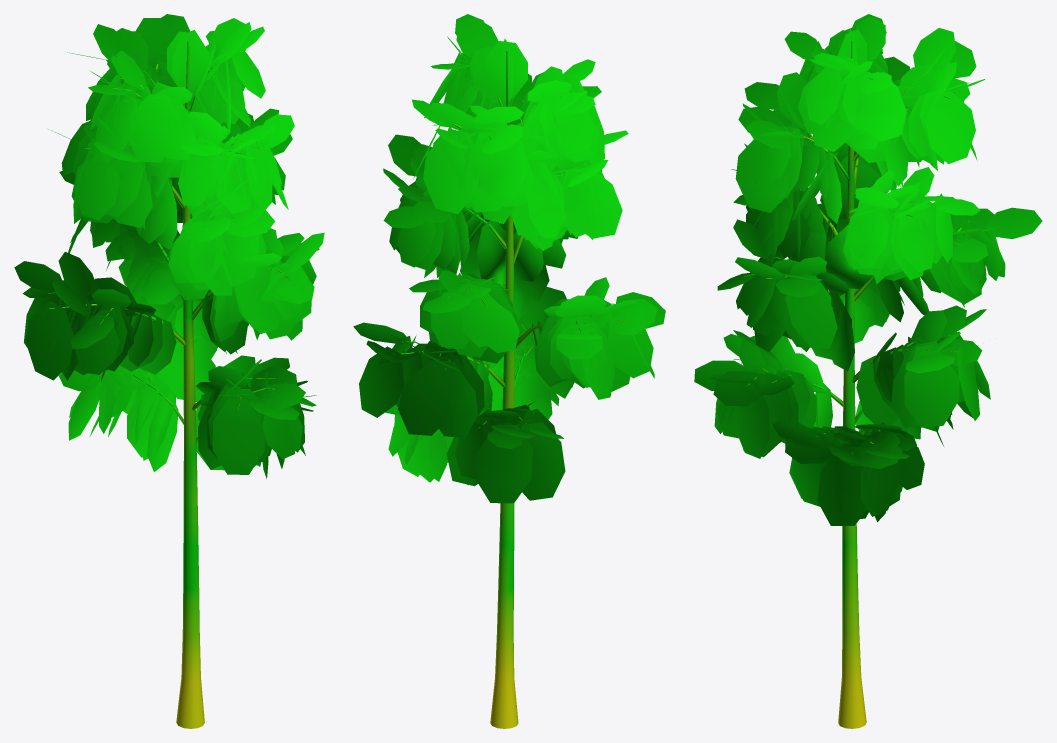
File: tree_birch_a.glb
The picture shows the model from 3 angles, left to right: view 1: azimuth 30°, elevation 25°; view 2: azimuth 150°, elevation 25°; view 3: azimuth 270°, elevation 25°; orthographic projection.
Visible parts, largest first — view 1: tree_birch_a.1, tree_birch_a.0; view 2: tree_birch_a.1, tree_birch_a.0; view 3: tree_birch_a.1, tree_birch_a.0.
Boxes of the visible parts, x1=… form: tree_birch_a.1: x1=14, y1=14, x2=324, y2=478; tree_birch_a.0: x1=48, y1=42, x2=291, y2=728; tree_birch_a.1: x1=353, y1=14, x2=665, y2=503; tree_birch_a.0: x1=401, y1=51, x2=632, y2=728; tree_birch_a.1: x1=694, y1=14, x2=1042, y2=525; tree_birch_a.0: x1=734, y1=41, x2=996, y2=728.
Bounding box in the file's own units: 5.75 × 14.08 × 6.42.
